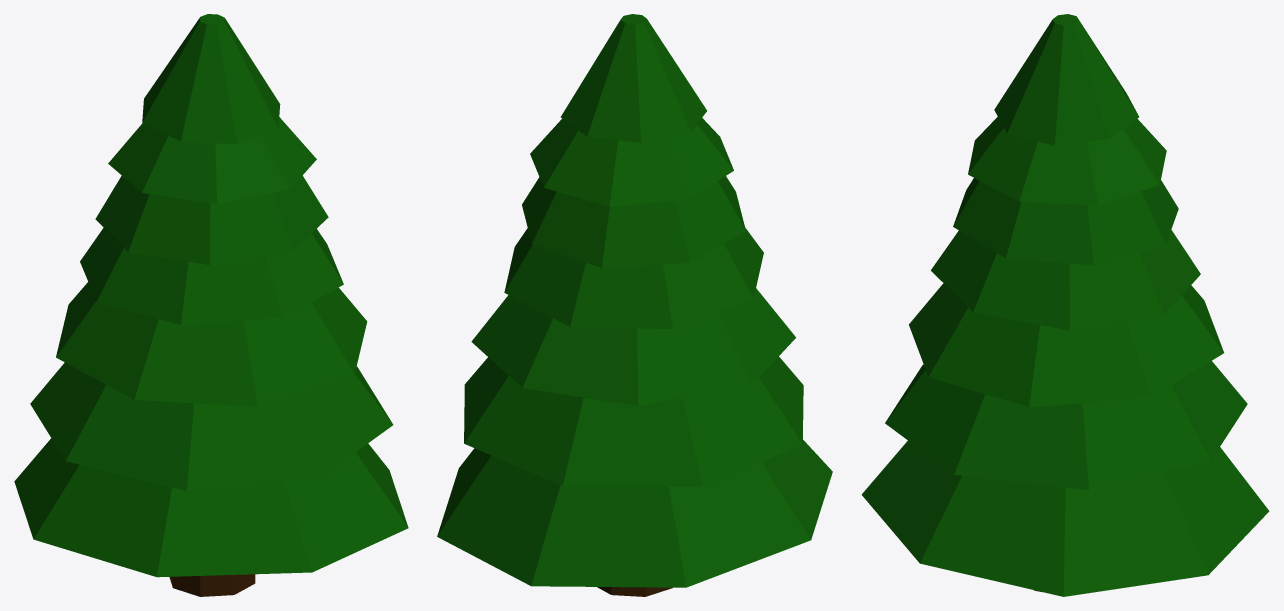
The model's file is Tree3.1.fbx.
3 renders of one model, left to right at view 1: azimuth 30°, elevation 25°; view 2: azimuth 150°, elevation 25°; view 3: azimuth 270°, elevation 25°, orthographic.
Visible parts, largest first — view 1: Cylinder.001, Cylinder.002, Cylinder.003, Cylinder.004, Cylinder.005, Cylinder.007, Cylinder.006, Tree3.1; view 2: Cylinder.001, Cylinder.002, Cylinder.003, Cylinder.004, Cylinder.005, Cylinder.006, Cylinder.007, Tree3.1; view 3: Cylinder.001, Cylinder.002, Cylinder.003, Cylinder.004, Cylinder.005, Cylinder.006, Cylinder.007.
Boxes of the visible parts, box(x1,y1,x2,y2) form: Cylinder.001: box(14, 438, 408, 577); Cylinder.002: box(30, 362, 393, 490); Cylinder.003: box(56, 282, 367, 406); Cylinder.004: box(80, 227, 343, 325); Cylinder.005: box(95, 175, 328, 265); Cylinder.007: box(142, 14, 280, 143); Cylinder.006: box(108, 117, 316, 203); Tree3.1: box(169, 574, 255, 596); Cylinder.001: box(437, 440, 832, 587); Cylinder.002: box(464, 356, 803, 486); Cylinder.003: box(471, 288, 795, 405); Cylinder.004: box(504, 228, 763, 329); Cylinder.005: box(522, 176, 745, 267); Cylinder.006: box(530, 118, 733, 206); Cylinder.007: box(560, 14, 706, 142); Tree3.1: box(597, 587, 672, 596); Cylinder.001: box(861, 441, 1269, 596); Cylinder.002: box(885, 361, 1247, 490); Cylinder.003: box(909, 283, 1223, 407); Cylinder.004: box(931, 230, 1200, 330); Cylinder.005: box(953, 178, 1178, 265); Cylinder.006: box(968, 117, 1166, 205); Cylinder.007: box(994, 14, 1138, 145).
Bounding box in the file's own units: 582 × 878 × 582.
